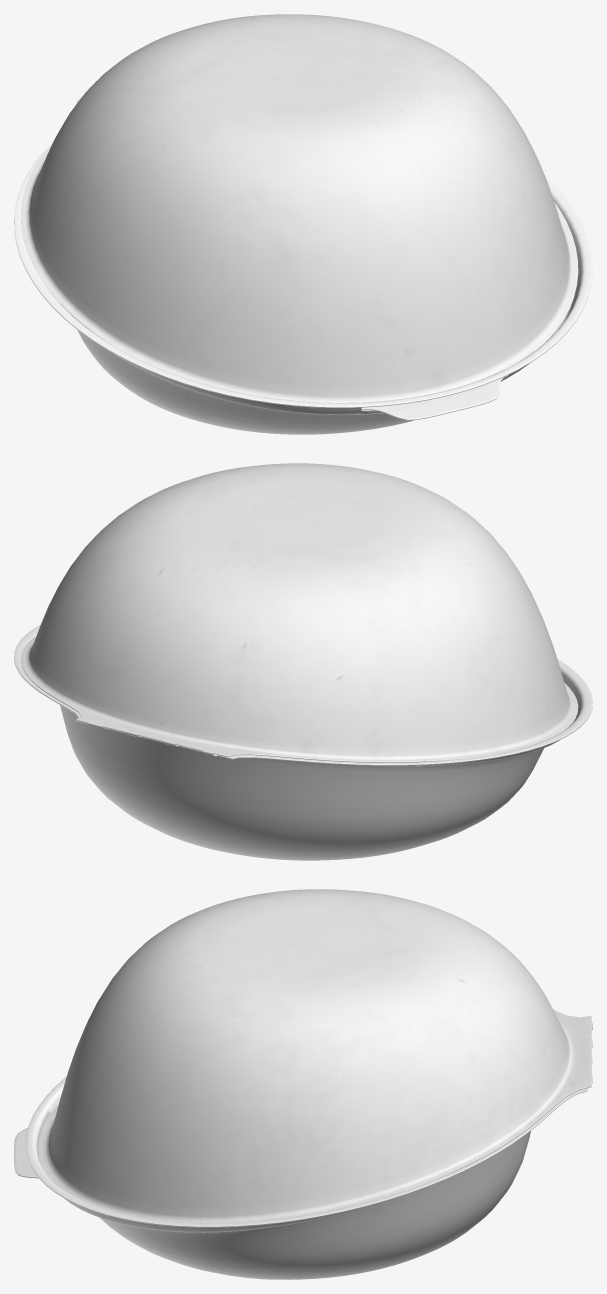
File: 13-burger-box-clean-transformed.glb
3 renders of one model, top to bottom at view 1: azimuth 30°, elevation 25°; view 2: azimuth 150°, elevation 25°; view 3: azimuth 270°, elevation 25°, orthographic. The views are drawn at different scales.
Parts seen in each view (by area): view 1: Burger_box; view 2: Burger_box; view 3: Burger_box.
Boxes of the visible parts, x1,y1,x2,y2 form: Burger_box: (14, 14, 592, 434); Burger_box: (14, 463, 592, 860); Burger_box: (14, 889, 592, 1279).
Bounding box in the file's own units: 0.1349 × 0.0734 × 0.1412.
1 material, 1 textured.
